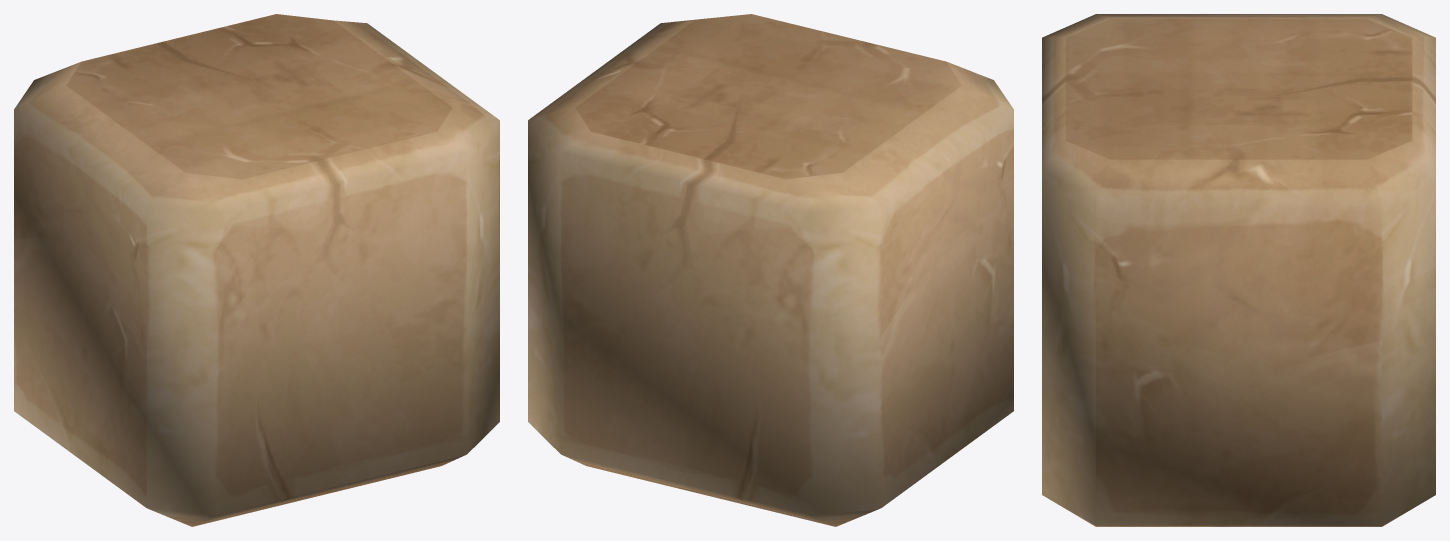
File: DE_House_Mod_Part_56.fbx
The picture shows the model from 3 angles, left to right: view 1: azimuth 30°, elevation 25°; view 2: azimuth 150°, elevation 25°; view 3: azimuth 270°, elevation 25°; orthographic projection. The views are drawn at different scales.
Parts seen in each view (by area): view 1: DE_House_Mod_Part_56; view 2: DE_House_Mod_Part_56; view 3: DE_House_Mod_Part_56.
Part boxes in pixels (<box>): DE_House_Mod_Part_56: <box>14,14,499,526</box>; DE_House_Mod_Part_56: <box>528,14,1013,526</box>; DE_House_Mod_Part_56: <box>1042,14,1435,526</box>.
Bounding box in the file's own units: 0.7527 × 0.711 × 0.6737.
